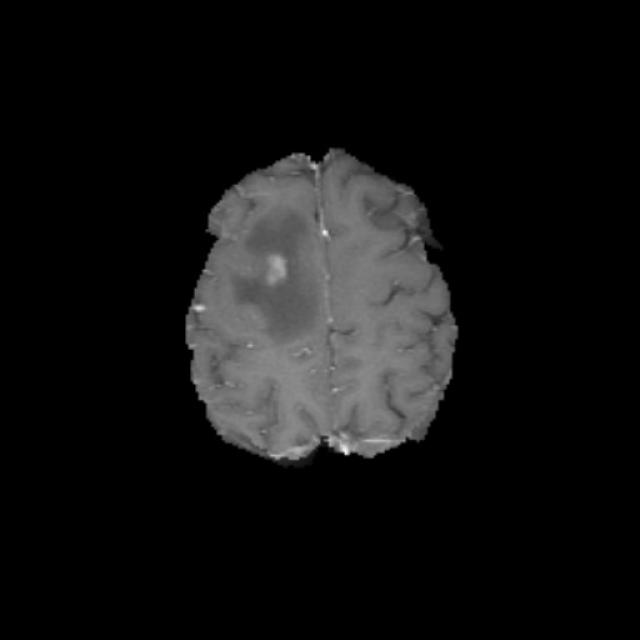positive: (260, 252, 290, 286)
